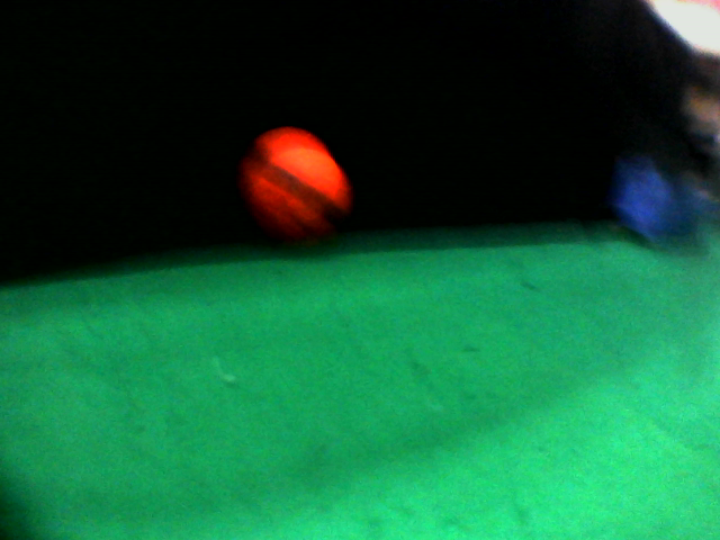bola: (234, 123, 375, 253)
